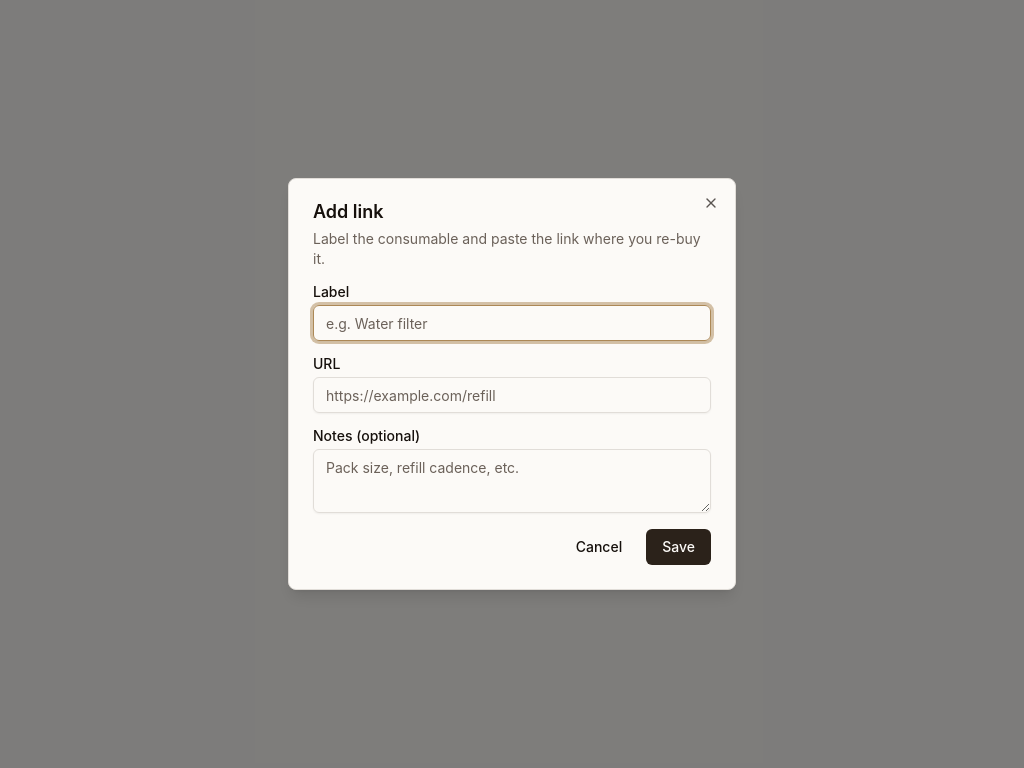
Test: <SupplyLinkDialog /> › maps a 422 field error from the server onto the input and stays open
The width and height of the screenshot is (1024, 768).
In the field with test id "supply-link-label-input": coordinates (512, 323) x1=313 y1=305 x2=711 y2=341, type "Water filter"
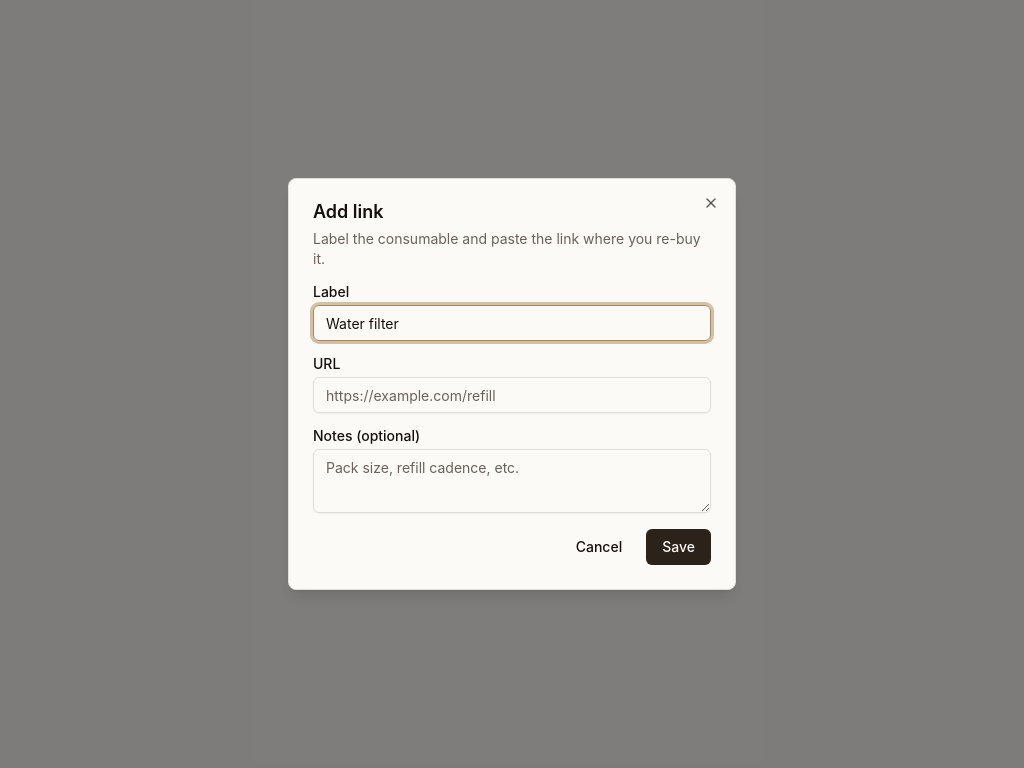
In the field with test id "supply-link-url-input": coordinates (512, 395) x1=313 y1=377 x2=711 y2=413, type "https://example.com/x"
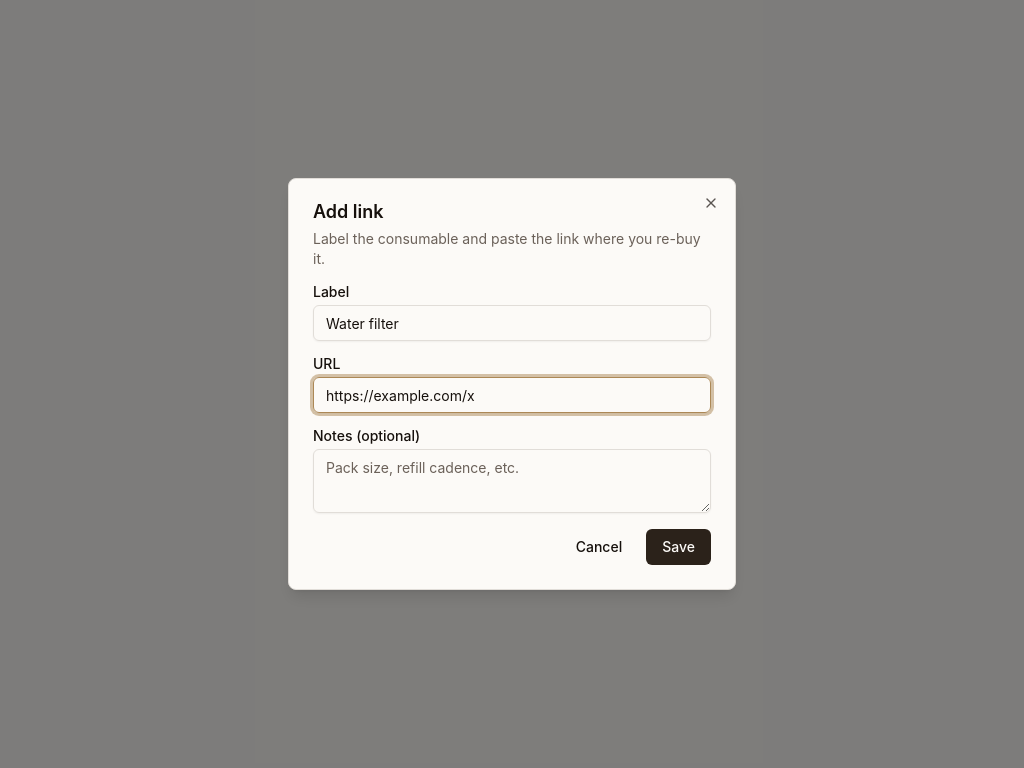
Click the button with test id "supply-link-submit": coordinates (679, 547) x1=646 y1=529 x2=711 y2=565
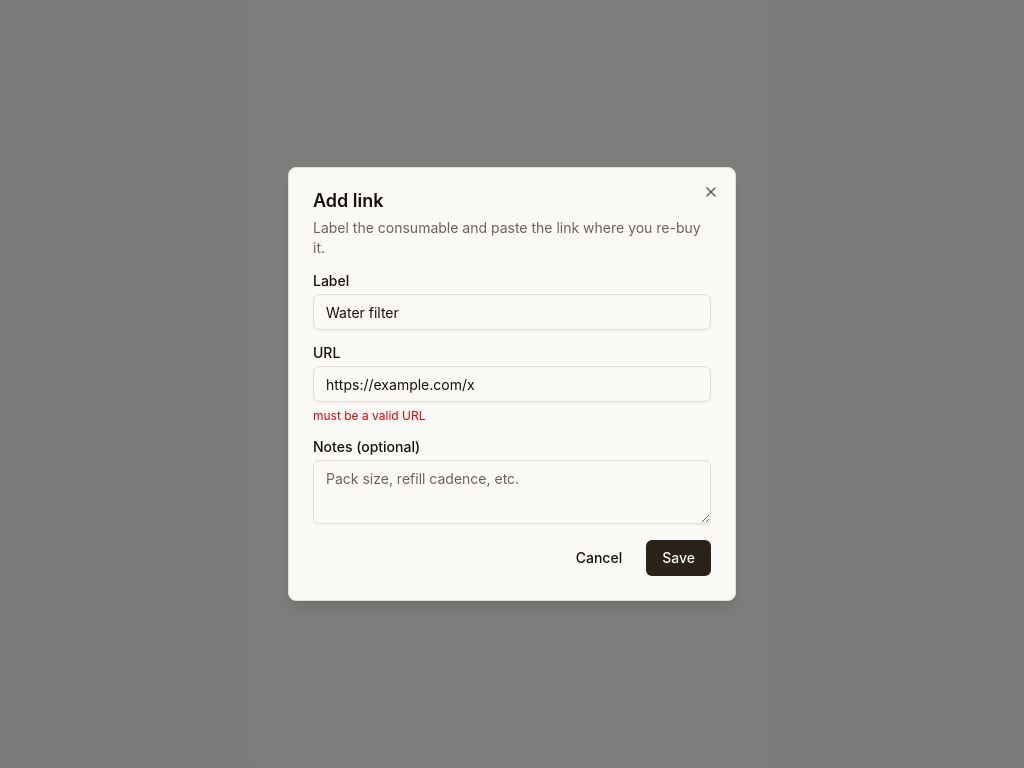
Result: the text with test id "supply-link-url-error" reads "must be a valid URL" at x1=313 y1=408 x2=426 y2=423
